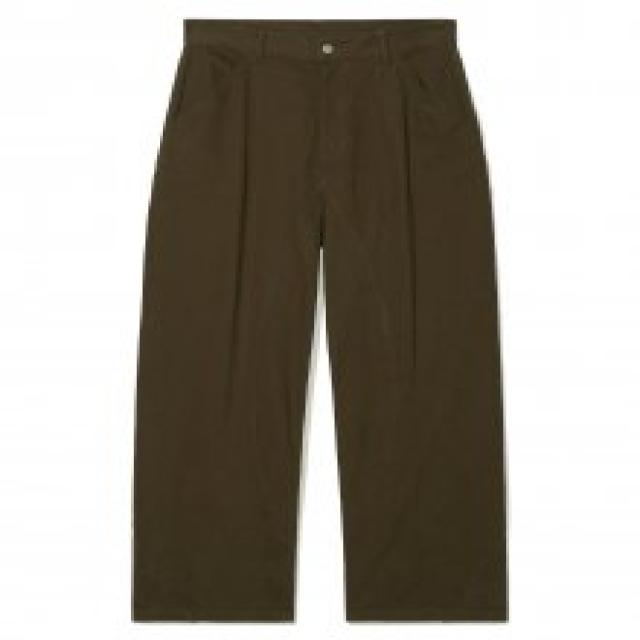long-pants: (130, 16, 516, 627)
